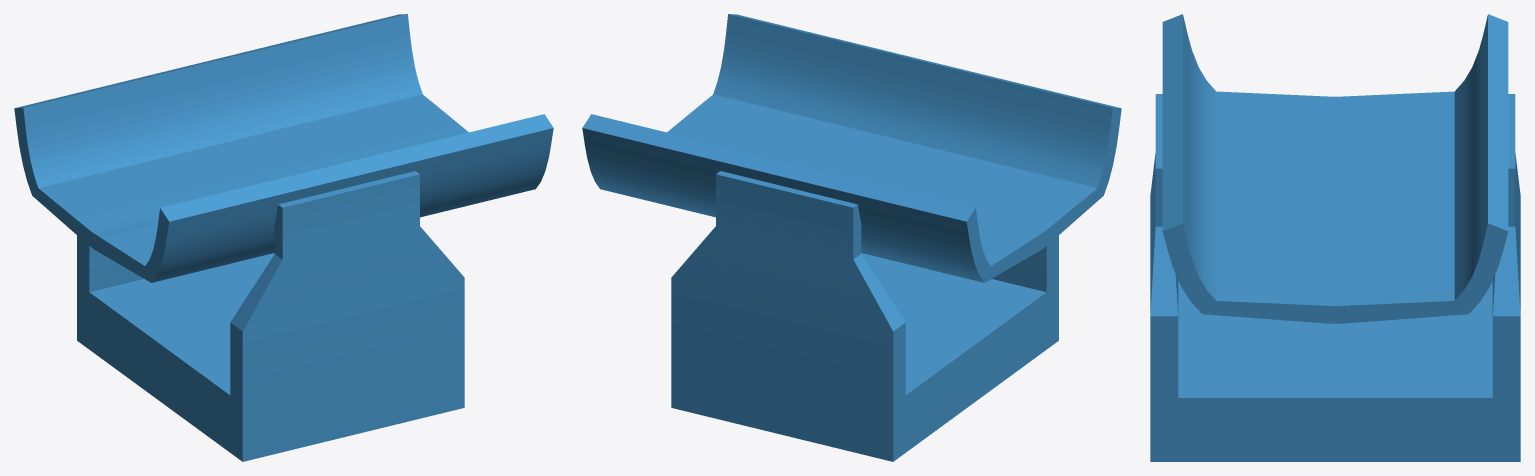
The model's file is ystanovka.fbx.
3 views of the same model, side by side, from view 1: azimuth 30°, elevation 25°; view 2: azimuth 150°, elevation 25°; view 3: azimuth 270°, elevation 25° (orthographic). The views are drawn at different scales.
Visible parts, largest first — view 1: Cube.029; view 2: Cube.029; view 3: Cube.029.
Part boxes in pixels (left/top/right/bottom): Cube.029: left=14, top=14, right=553, bottom=461; Cube.029: left=582, top=14, right=1121, bottom=461; Cube.029: left=1150, top=14, right=1520, bottom=461.
Bounding box in the file's own units: 0.782 × 0.5054 × 0.5845.
